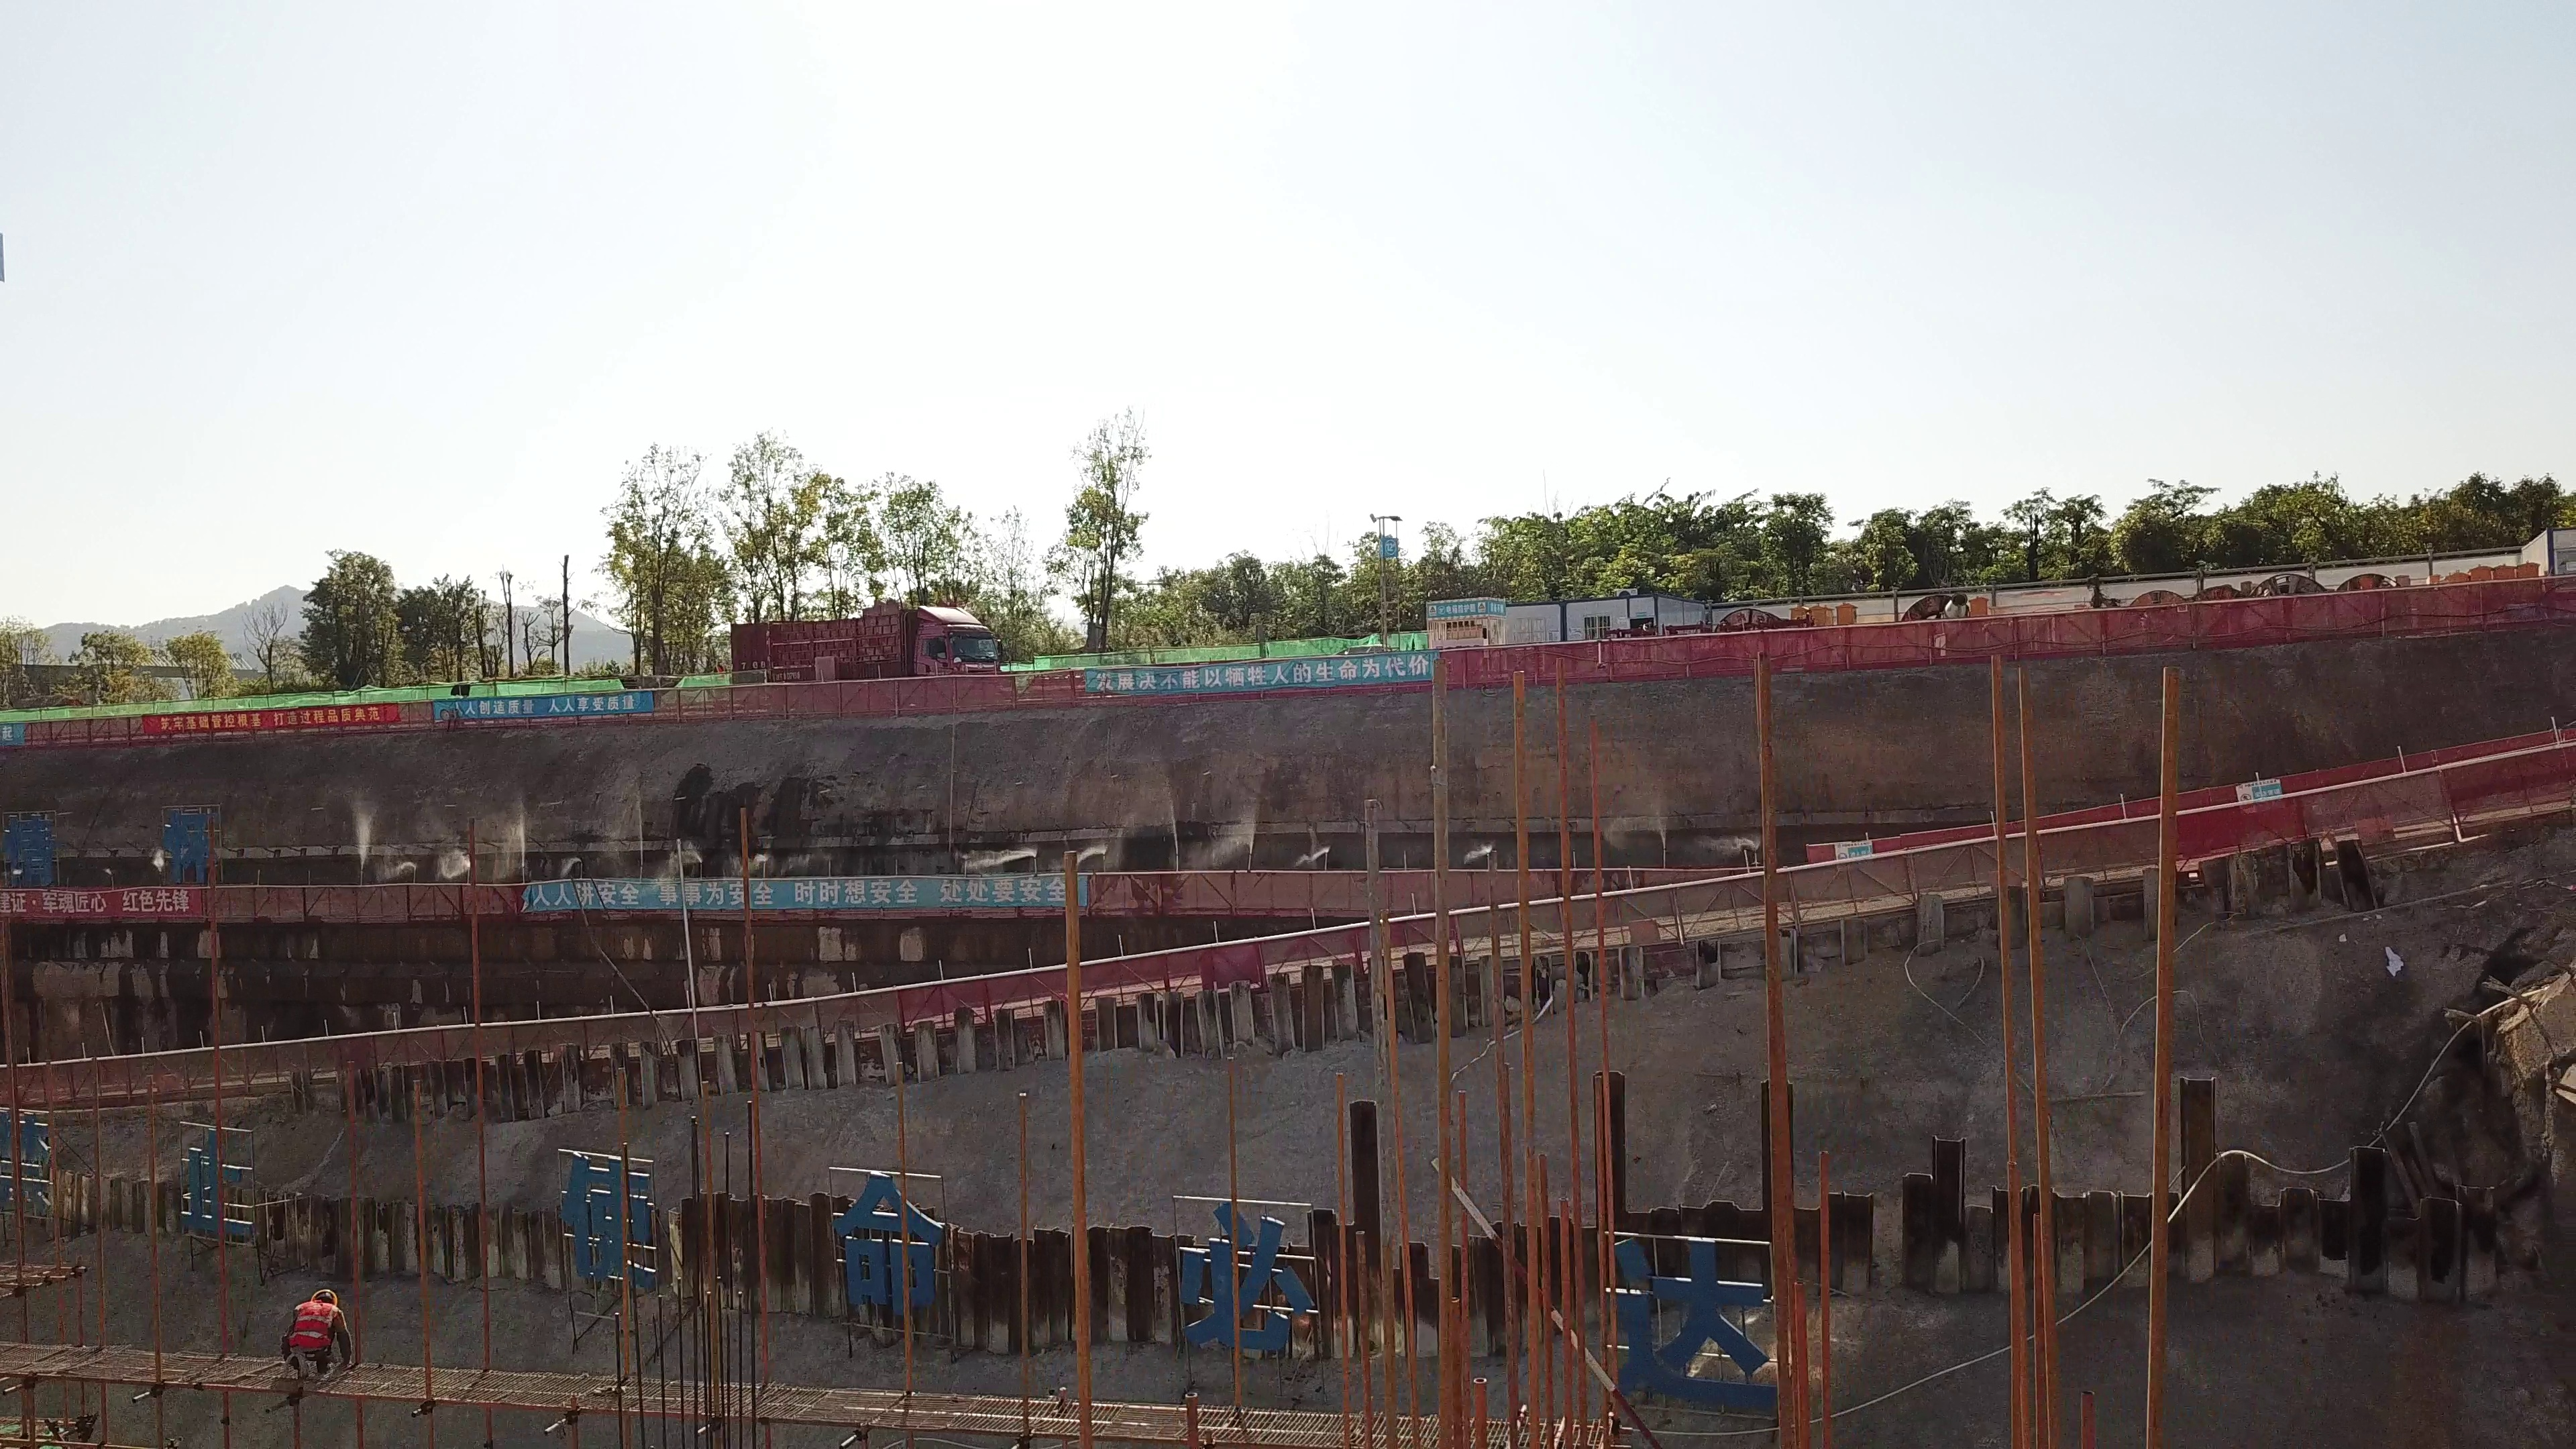fence: (1450, 612, 2104, 691), (2196, 732, 2563, 869), (1797, 816, 2187, 931), (2104, 574, 2526, 657), (657, 670, 1093, 724), (206, 871, 539, 928), (1117, 861, 1440, 912), (1629, 881, 1780, 943)
helmet: (311, 1288, 338, 1303)
person: (274, 1271, 377, 1389)
slogan: (526, 868, 1104, 914), (1087, 645, 1446, 698), (431, 688, 655, 729), (1, 883, 206, 923), (143, 706, 400, 737)
vest: (293, 1303, 335, 1346)
